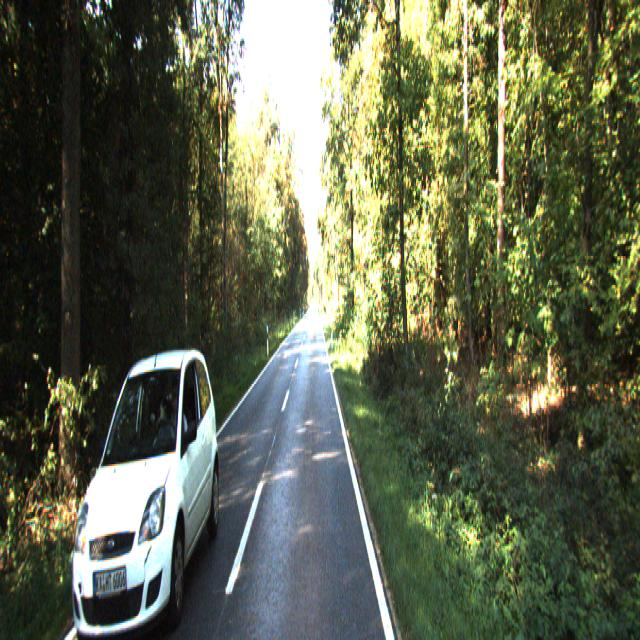Car: (70, 340, 225, 638)
